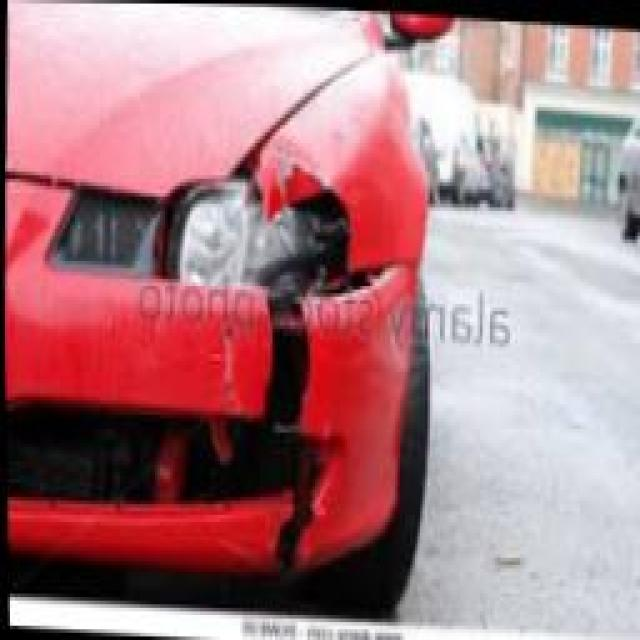Bumper: (9, 261, 412, 580)
Fender: (261, 57, 431, 269)
Light: (157, 173, 366, 297)
